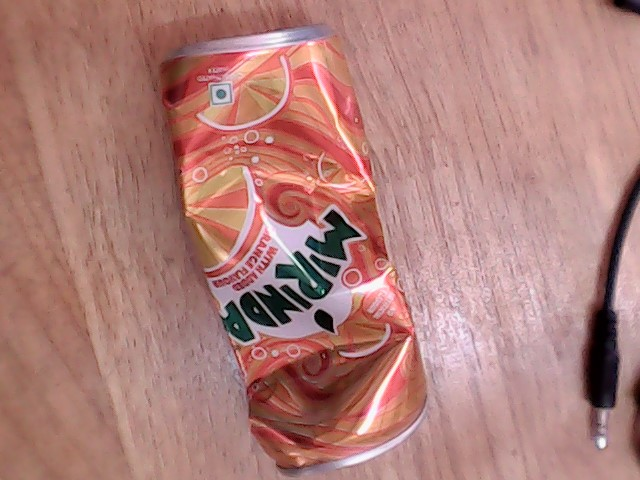Metal: (134, 33, 446, 480)
